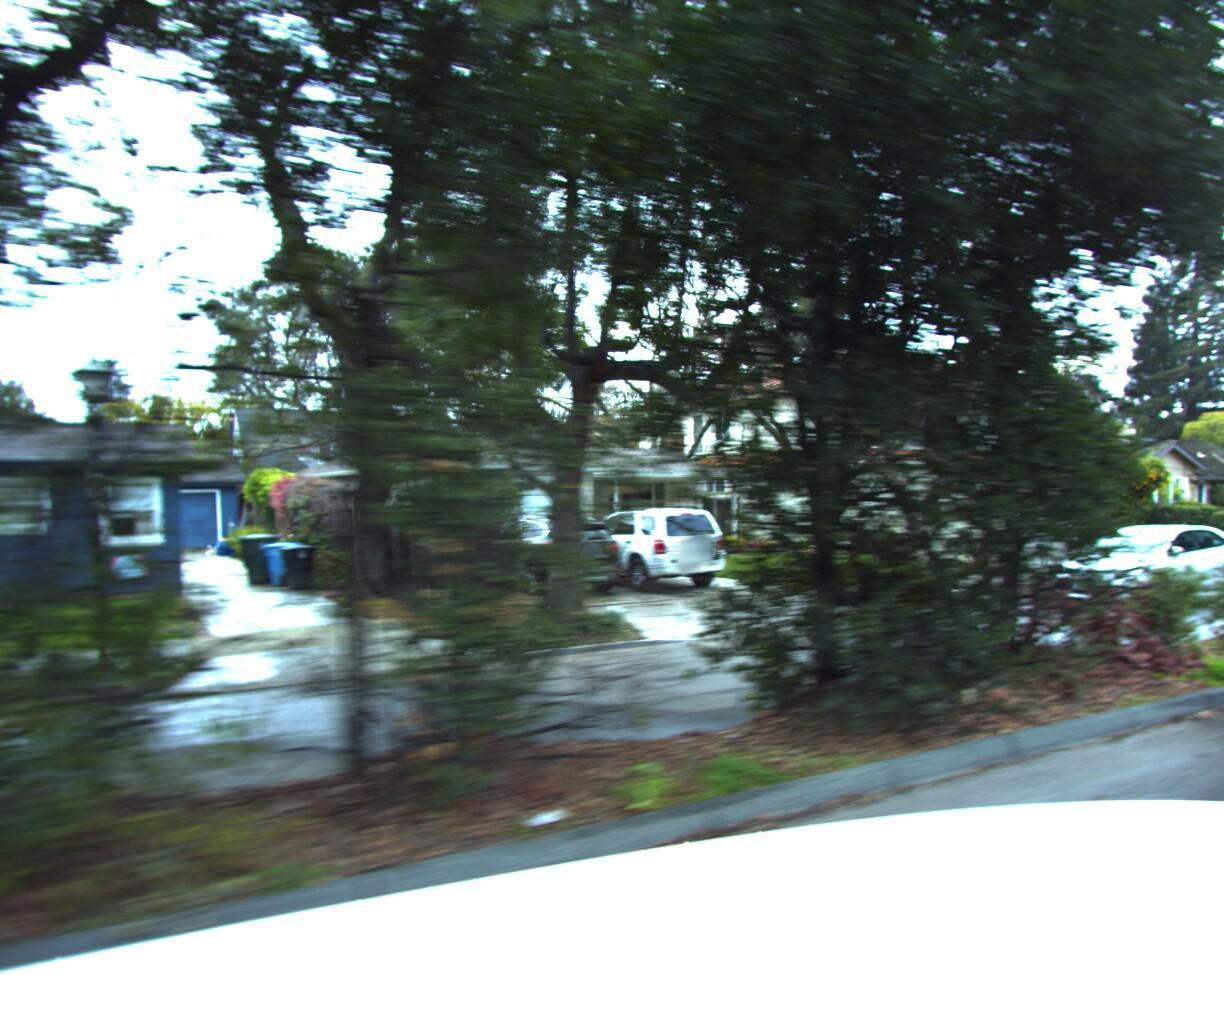car: (1039, 514, 1224, 615), (562, 496, 736, 591)
